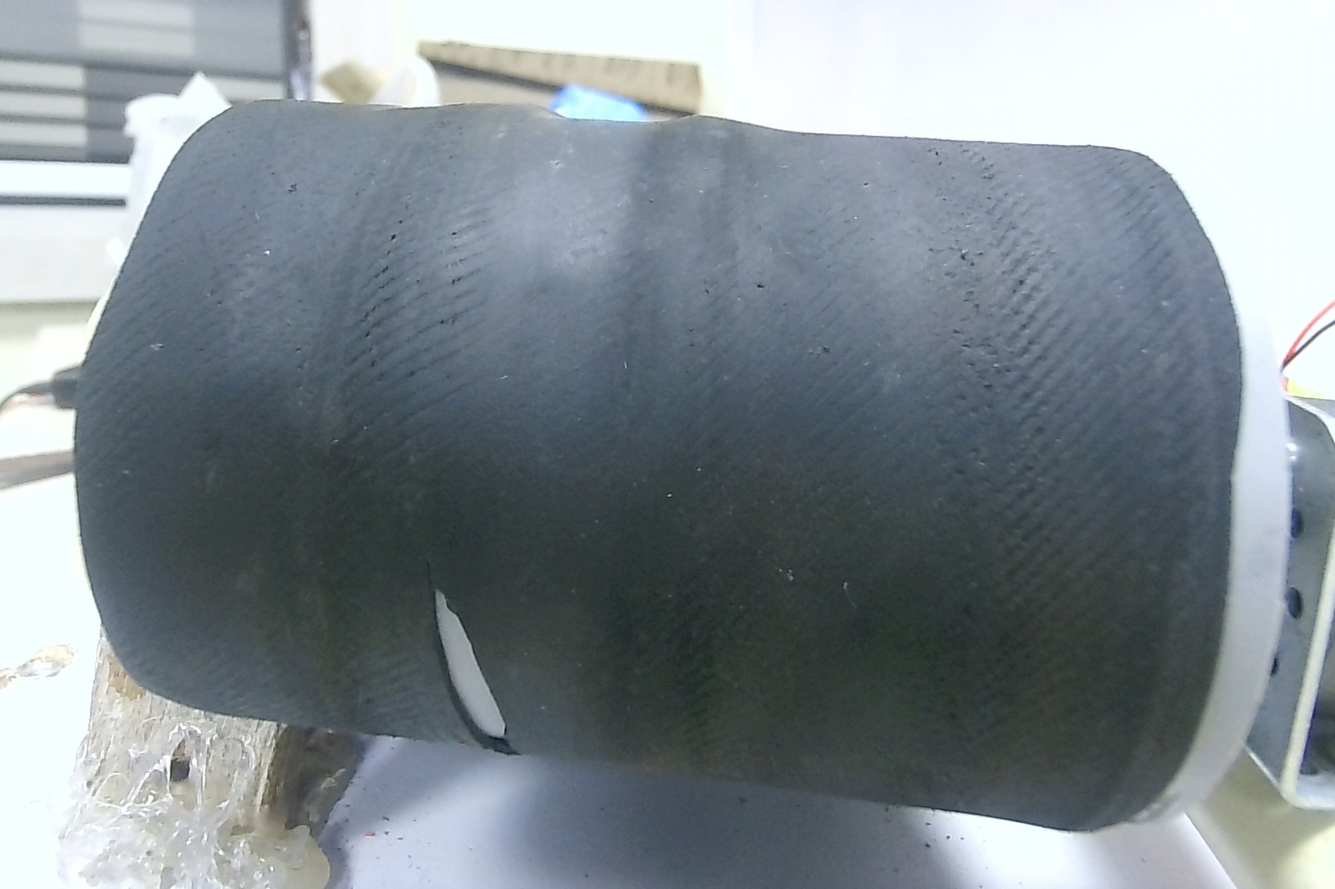tear: (423, 566, 523, 752)
